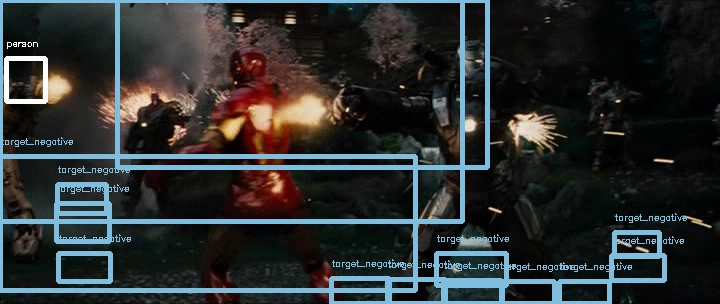person: (229, 50, 263, 82), (228, 50, 262, 82), (230, 50, 264, 82), (229, 49, 263, 81), (229, 51, 263, 83)
target_negative: (104, 171, 492, 302), (211, 17, 438, 193), (3, 148, 511, 220), (19, 232, 486, 292), (26, 257, 647, 294), (536, 207, 582, 241)
